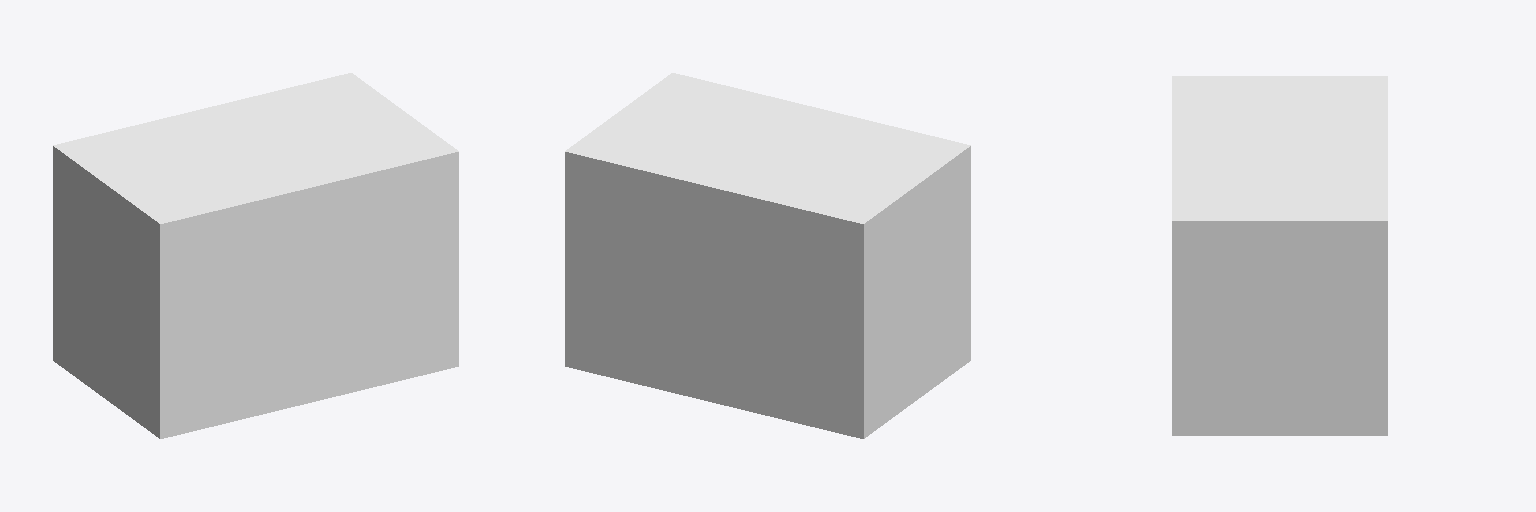
Rendered from Cinema.obj.
3 views of the same model, side by side, from view 1: azimuth 30°, elevation 25°; view 2: azimuth 150°, elevation 25°; view 3: azimuth 270°, elevation 25° (orthographic).
Bounding box in the file's own units: 16 × 11 × 10.